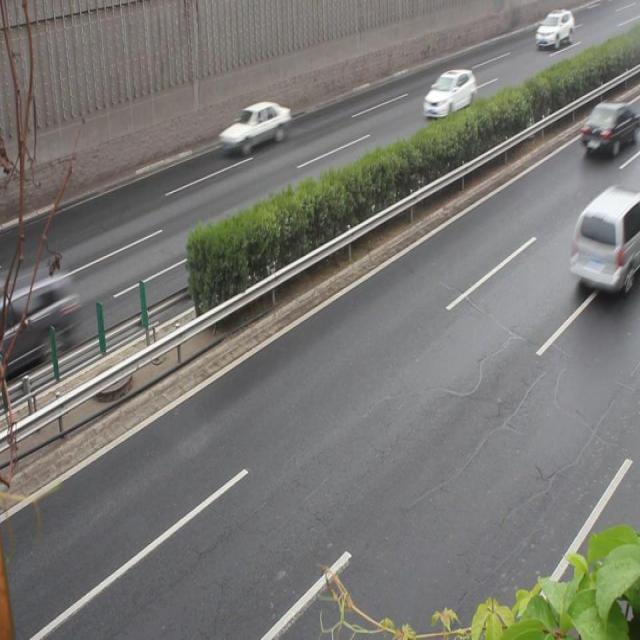car: (1, 271, 76, 373), (572, 182, 640, 294), (219, 98, 291, 154), (579, 98, 640, 160), (422, 67, 475, 120)
